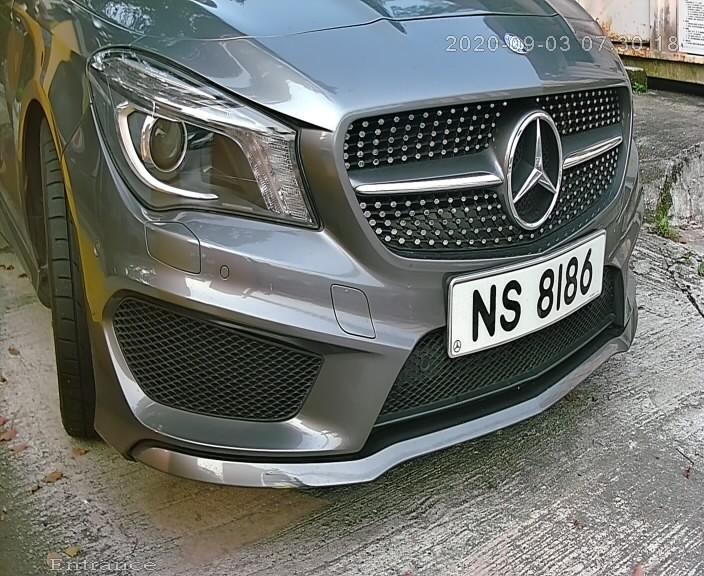License Plate: (440, 237, 604, 366)
